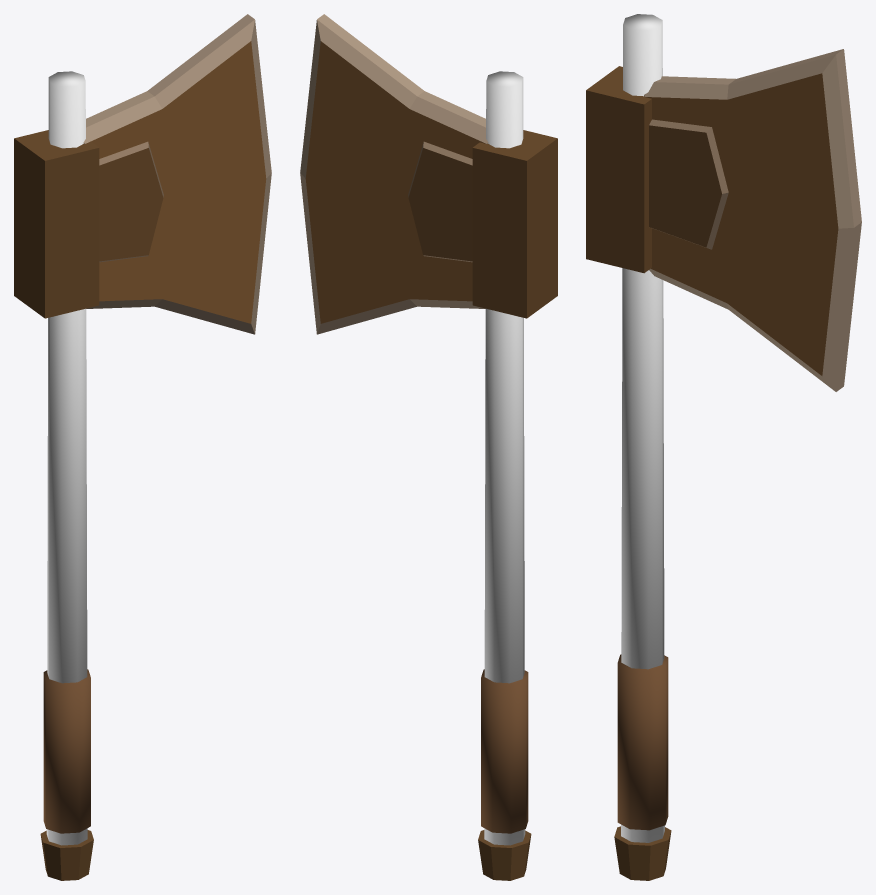
The model's file is possessed_hatchet.glb.
The picture shows the model from 3 angles, left to right: view 1: azimuth 30°, elevation 25°; view 2: azimuth 150°, elevation 25°; view 3: azimuth 330°, elevation 25°; orthographic projection. The views are drawn at different scales.
Parts seen in each view (by area): view 1: possessed_hatchet_v0; view 2: possessed_hatchet_v0; view 3: possessed_hatchet_v0.
Part boxes in pixels (x1=…): possessed_hatchet_v0: x1=14, y1=14, x2=271, y2=880; possessed_hatchet_v0: x1=300, y1=14, x2=557, y2=880; possessed_hatchet_v0: x1=586, y1=14, x2=861, y2=880.
Bounding box in the file's own units: 0.285 × 0.925 × 0.064.
